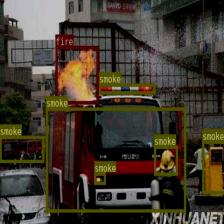fire: (55, 45, 98, 104)
smoke: (45, 107, 186, 212), (202, 140, 224, 193), (0, 136, 44, 162), (153, 145, 178, 175), (98, 83, 155, 93), (93, 172, 106, 184)
